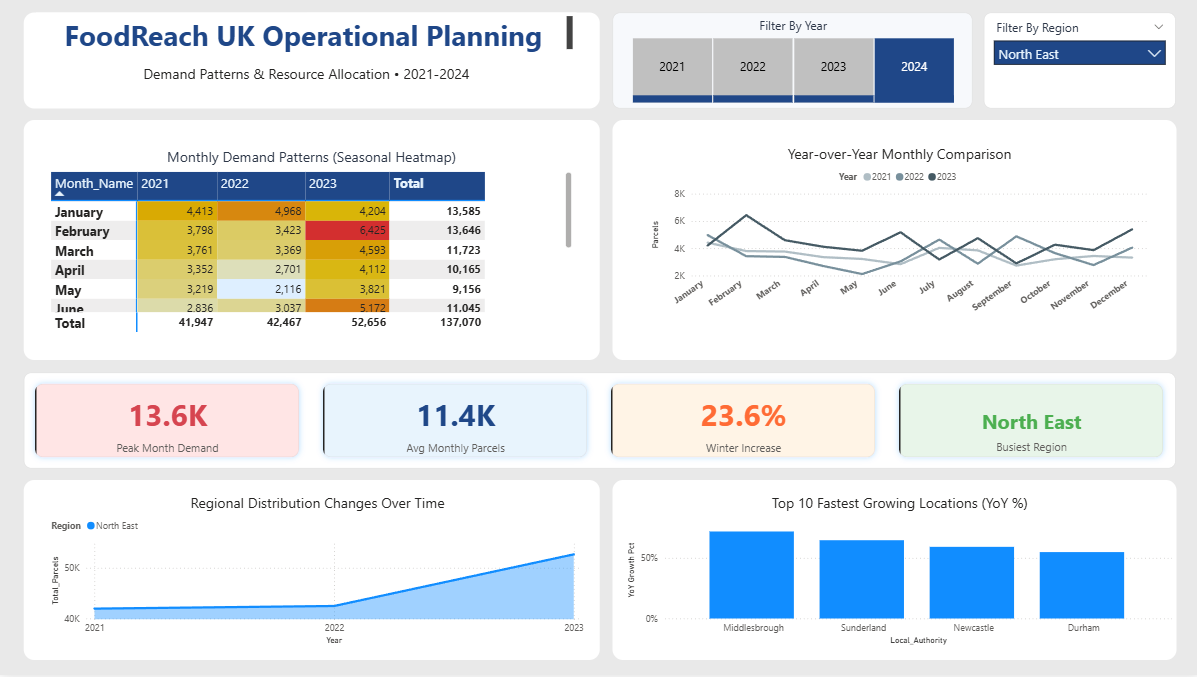

What the dashboard file says about the page in this screenshot:
{"tool":"powerbi","page":{"name":"Operations Planning ","canvas":[1600,900],"ordinal":2},"visuals":[{"type":"shape","box":[816,160,752,320],"z":0},{"type":"shape","box":[32,640,768,240],"z":500},{"type":"shape","box":[32,160,768,320],"z":1000},{"type":"pivotTable","title":"Monthly Demand Patterns (Seasonal Heatmap)","fields":{"Rows":["Dim_Date.Month_Name"],"Columns":["Dim_Date.Year"],"Values":["_Measures.Total_Parcels"]},"box":[64,192,704,256],"z":2000},{"type":"shape","box":[816,640,752,240],"z":2500},{"type":"lineChart","title":"Year-over-Year Monthly Comparison","fields":{"Category":["Dim_Date.Month_Name"],"Series":["Dim_Date.Year"],"Y":["_Measures.Total_Parcels"]},"box":[864,192,672,240],"z":3000},{"type":"clusteredColumnChart","title":"Top 10 Fastest Growing Locations (YoY %)","fields":{"Category":["Dim_Location.Local_Authority"],"Y":["_Measures.YoY Growth Pct"]},"box":[816,928,784,240],"z":4000},{"type":"areaChart","title":"Regional Distribution Changes Over Time","fields":{"Category":["Dim_Date.Year"],"Series":["Dim_Location.Region"],"Y":["_Measures.Total_Parcels"]},"box":[64,656,720,208],"z":5000},{"type":"clusteredColumnChart","title":"Top 10 Fastest Growing Locations (YoY %)","fields":{"Category":["Dim_Location.Local_Authority"],"Y":["_Measures.YoY Growth Pct"]},"box":[832,656,736,208],"z":6000},{"type":"cardVisual","fields":{"Data":["_Measures.Peak Month Demand","_Measures.Avg Monthly Parcels","_Measures.Winter Increase","_Measures.Busiest Region"]},"box":[32,496,1536,128],"z":7000},{"type":"slicer","fields":{"Values":["Dim_Location.Region"]},"box":[1312,16,256,128],"z":8000},{"type":"slicer","title":"Filter By Year","fields":{"Values":["Dim_Date.Year"]},"box":[816,16,480,128],"z":9000},{"type":"shape","box":[32,16,768,128],"z":10000},{"type":"textbox","box":[48,16,720,64],"z":11000},{"type":"textbox","box":[48,80,720,48],"z":12000}]}

Visuals, with their boxes in screenshot pixels (x1, y1, x2, y2), scaled from the page's 1600x900 canvas onto the 1197x677 screenshot:
shape: select_region(610, 120, 1173, 361)
shape: select_region(24, 481, 598, 662)
shape: select_region(24, 120, 598, 361)
"Monthly Demand Patterns (Seasonal Heatmap)" pivotTable: select_region(48, 144, 575, 337)
shape: select_region(610, 481, 1173, 662)
"Year-over-Year Monthly Comparison" lineChart: select_region(646, 144, 1149, 325)
"Regional Distribution Changes Over Time" areaChart: select_region(48, 493, 587, 650)
"Top 10 Fastest Growing Locations (YoY %)" clusteredColumnChart: select_region(622, 493, 1173, 650)
cardVisual - _Measures.Peak Month Demand x _Measures.Avg Monthly Parcels: select_region(24, 373, 1173, 469)
slicer - Dim_Location.Region: select_region(982, 12, 1173, 108)
"Filter By Year" slicer: select_region(610, 12, 970, 108)
shape: select_region(24, 12, 598, 108)
textbox: select_region(36, 12, 575, 60)
textbox: select_region(36, 60, 575, 96)
